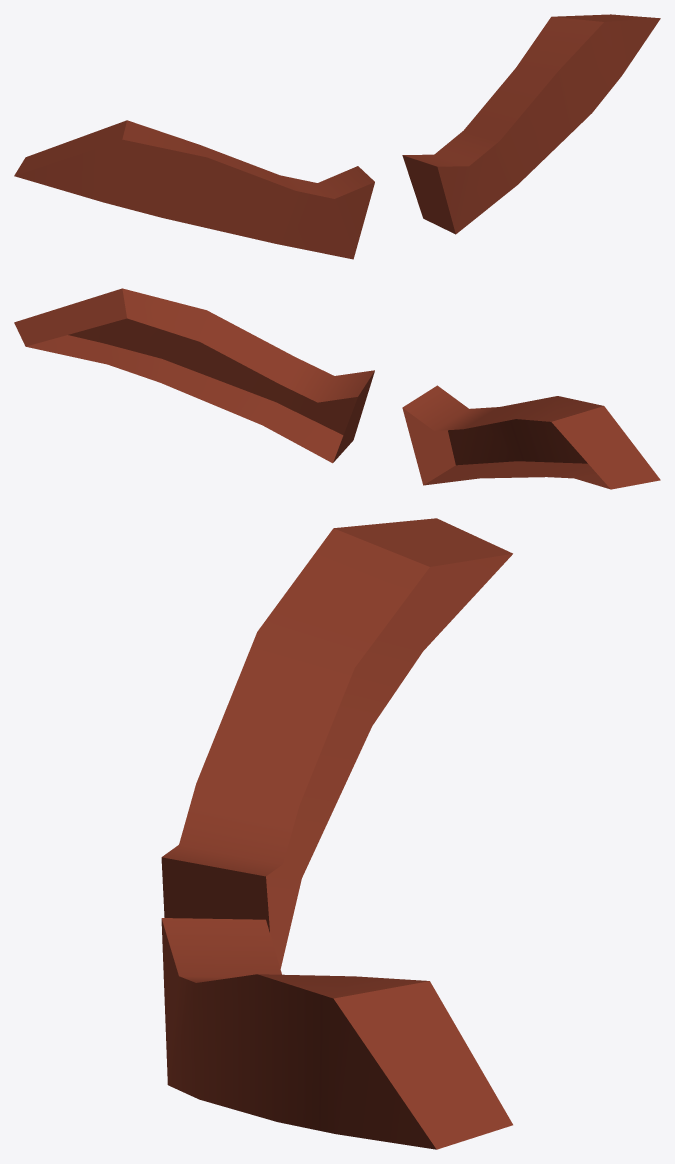
The model's file is Brow_Brown_13.fbx.
3 renders of one model, top to bottom at view 1: azimuth 30°, elevation 25°; view 2: azimuth 150°, elevation 25°; view 3: azimuth 270°, elevation 25°, orthographic. The views are drawn at different scales.
Visible parts, largest first — view 1: Brow_Brown_13; view 2: Brow_Brown_13; view 3: Brow_Brown_13.
Part boxes in pixels (bbox=[...]): Brow_Brown_13: bbox=[14, 14, 660, 259]; Brow_Brown_13: bbox=[14, 288, 660, 489]; Brow_Brown_13: bbox=[161, 518, 512, 1149].
Size of the model in its own units: 40.31 by 8.22 by 9.5.
